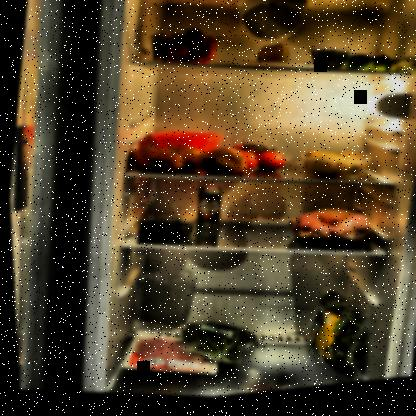blueberries: (132, 217, 197, 252)
butter: (144, 124, 227, 170)
cheese: (253, 45, 292, 75)
chicken: (281, 204, 377, 266)
green_beans: (168, 316, 261, 379)
heavy_cream: (191, 183, 225, 242)
lime: (332, 54, 402, 85)
potato: (295, 148, 376, 193)
spinach: (293, 290, 378, 392)
strawberries: (143, 23, 221, 76)
sweet_potato: (122, 133, 252, 194)
tomato: (223, 140, 289, 183)
